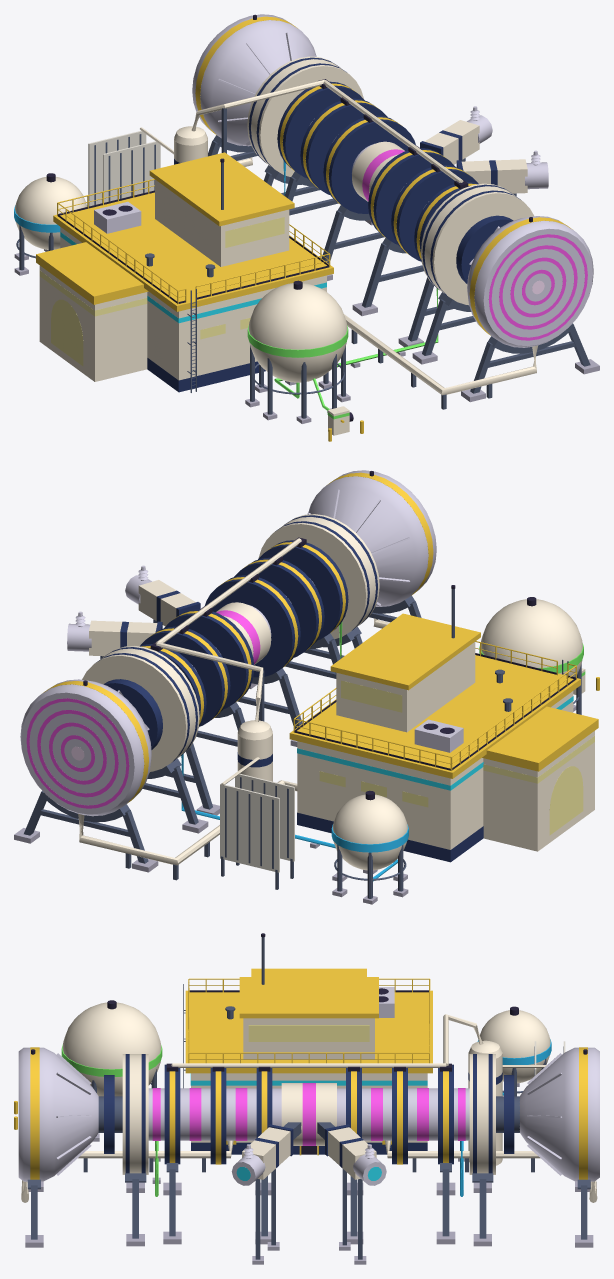
File: power.glb
3 renders of one model, top to bottom at view 1: azimuth 30°, elevation 25°; view 2: azimuth 150°, elevation 25°; view 3: azimuth 270°, elevation 25°, orthographic. The views are drawn at different scales.
Visible parts, largest first — view 1: powerb_light_60, powerb_cream_50, powerb_navy_50, powerb_cream_70, powerb_yellow_60, powerb_cream_60, powerb_yellow_40, powerb_cream_40, powerb_yellow_0, powerb_white_30, powerb_yellow_50, powerb_plasma_0 (+19 smaller); view 2: powerb_light_60, powerb_cream_70, powerb_cream_50, powerb_navy_50, powerb_yellow_60, powerb_cream_60, powerb_yellow_40, powerb_white_30, powerb_cream_40, powerb_yellow_0, powerb_lamp_0, powerb_yellow_50 (+19 smaller); view 3: powerb_light_60, powerb_cream_50, powerb_yellow_60, powerb_yellow_40, powerb_light_50, powerb_yellow_0, powerb_navy_50, powerb_cream_60, powerb_cream_40, powerb_plasma_0, powerb_steel_25, powerb_navy_0 (+18 smaller).
Part boxes in pixels (<box>): powerb_light_60: <box>192,14,593,347</box>; powerb_cream_50: <box>15,176,347,382</box>; powerb_navy_50: <box>277,81,478,261</box>; powerb_cream_70: <box>39,227,326,381</box>; powerb_yellow_60: <box>53,192,333,311</box>; powerb_cream_60: <box>247,56,533,305</box>; powerb_yellow_40: <box>149,152,294,226</box>; powerb_cream_40: <box>174,120,527,201</box>; powerb_yellow_0: <box>195,16,572,335</box>; powerb_white_30: <box>88,131,160,206</box>; powerb_yellow_50: <box>36,242,148,304</box>; powerb_plasma_0: <box>362,149,587,340</box>; powerb_light_60: <box>20,470,436,816</box>; powerb_cream_70: <box>297,691,594,851</box>; powerb_cream_50: <box>332,599,582,870</box>; powerb_navy_50: <box>139,540,348,727</box>; powerb_yellow_60: <box>289,655,580,778</box>; powerb_cream_60: <box>82,514,379,771</box>; powerb_yellow_40: <box>330,613,480,690</box>; powerb_white_30: <box>220,773,294,872</box>; powerb_cream_40: <box>89,580,272,781</box>; powerb_yellow_0: <box>43,472,433,803</box>; powerb_lamp_0: <box>319,680,594,835</box>; powerb_yellow_50: <box>482,706,598,771</box>; powerb_light_60: <box>18,1047,599,1181</box>; powerb_cream_50: <box>62,1002,550,1096</box>; powerb_yellow_60: <box>185,990,432,1073</box>; powerb_yellow_40: <box>239,977,378,1018</box>; powerb_light_50: <box>148,1088,469,1140</box>; powerb_yellow_0: <box>30,1047,587,1179</box>; powerb_navy_50: <box>164,1064,453,1164</box>; powerb_cream_60: <box>122,1054,495,1174</box>; powerb_cream_40: <box>242,1053,502,1179</box>; powerb_plasma_0: <box>152,1083,465,1145</box>; powerb_steel_25: <box>31,1122,587,1239</box>; powerb_navy_0: <box>125,1054,502,1173</box>.
Size of the model in its own units: 39.92 by 15.7 by 44.55.
